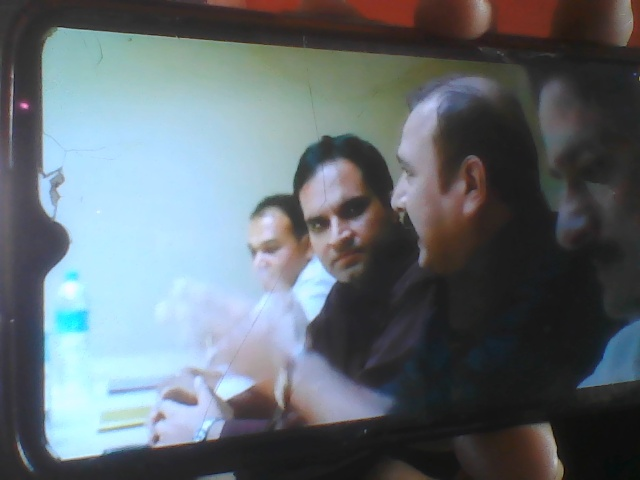fake: (290, 109, 426, 302)
